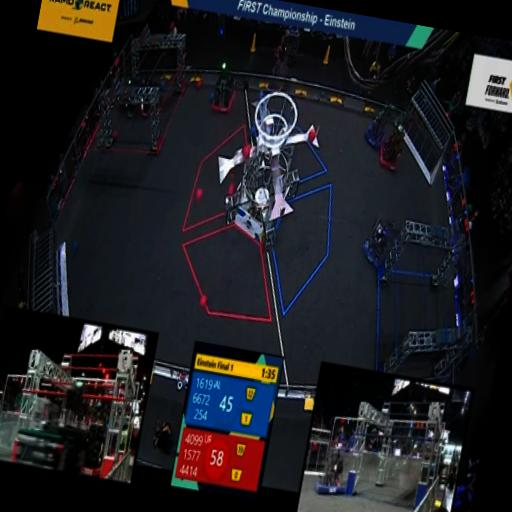robot: (358, 216, 398, 274), (362, 92, 394, 156), (207, 62, 241, 118), (376, 124, 408, 178), (128, 70, 162, 118)
